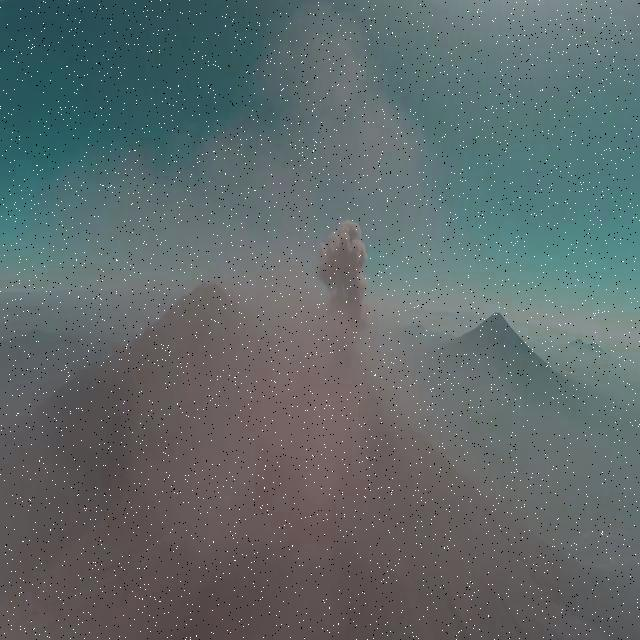Plume: (314, 190, 380, 374)
